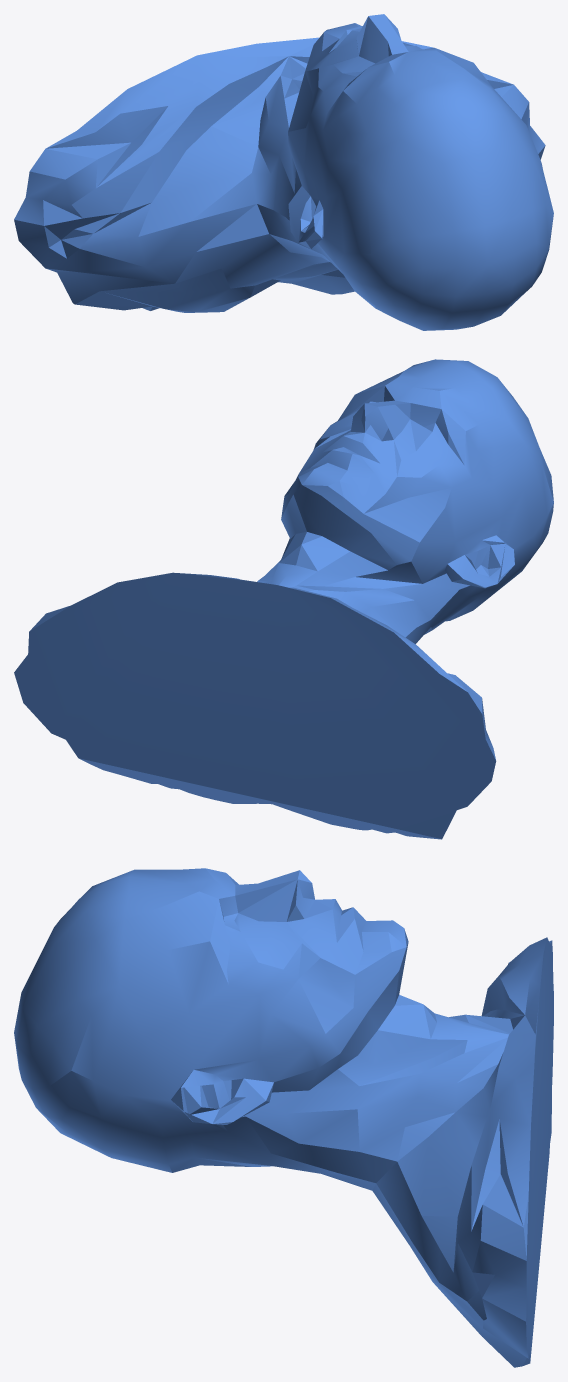
The model's file is human.gltf.
3 renders of one model, top to bottom at view 1: azimuth 30°, elevation 25°; view 2: azimuth 150°, elevation 25°; view 3: azimuth 270°, elevation 25°, orthographic. The views are drawn at different scales.
Visible parts, largest first — view 1: person; view 2: person; view 3: person.
Part boxes in pixels (left/top/right/bottom): person: left=14, top=14, right=553, bottom=330; person: left=14, top=359, right=553, bottom=839; person: left=14, top=868, right=553, bottom=1367.
Size of the model in its own units: 5.23 by 3.49 by 4.26.
